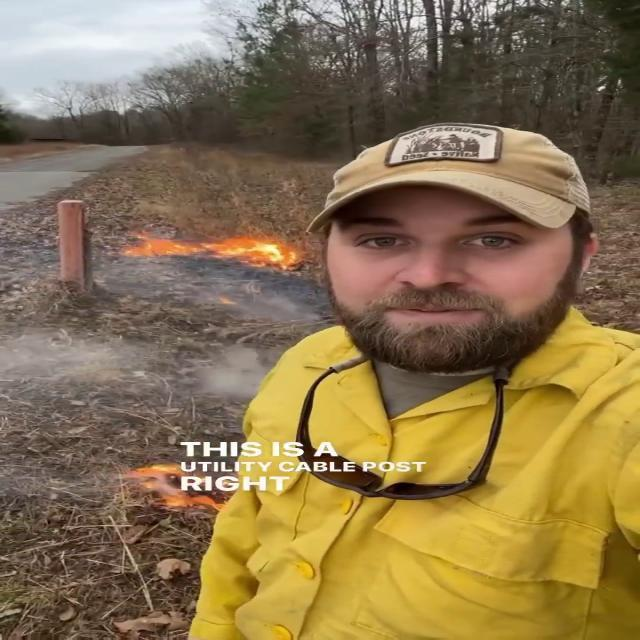Fire: (117, 222, 305, 274)
Smoke: (0, 320, 190, 400)
